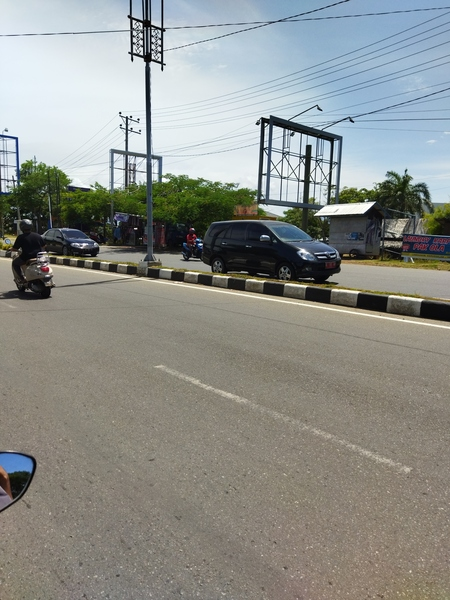car: (200, 216, 340, 289), (37, 225, 100, 262)
motorcycle: (7, 241, 58, 303), (179, 237, 209, 264)
